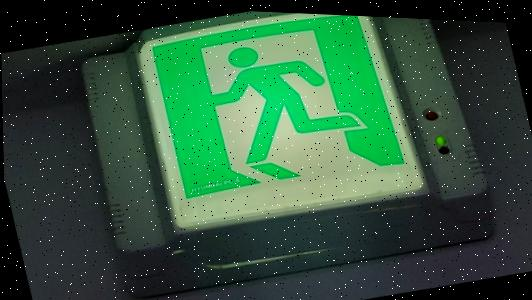emergency_exit: (3, 10, 529, 297), (134, 13, 427, 231)
